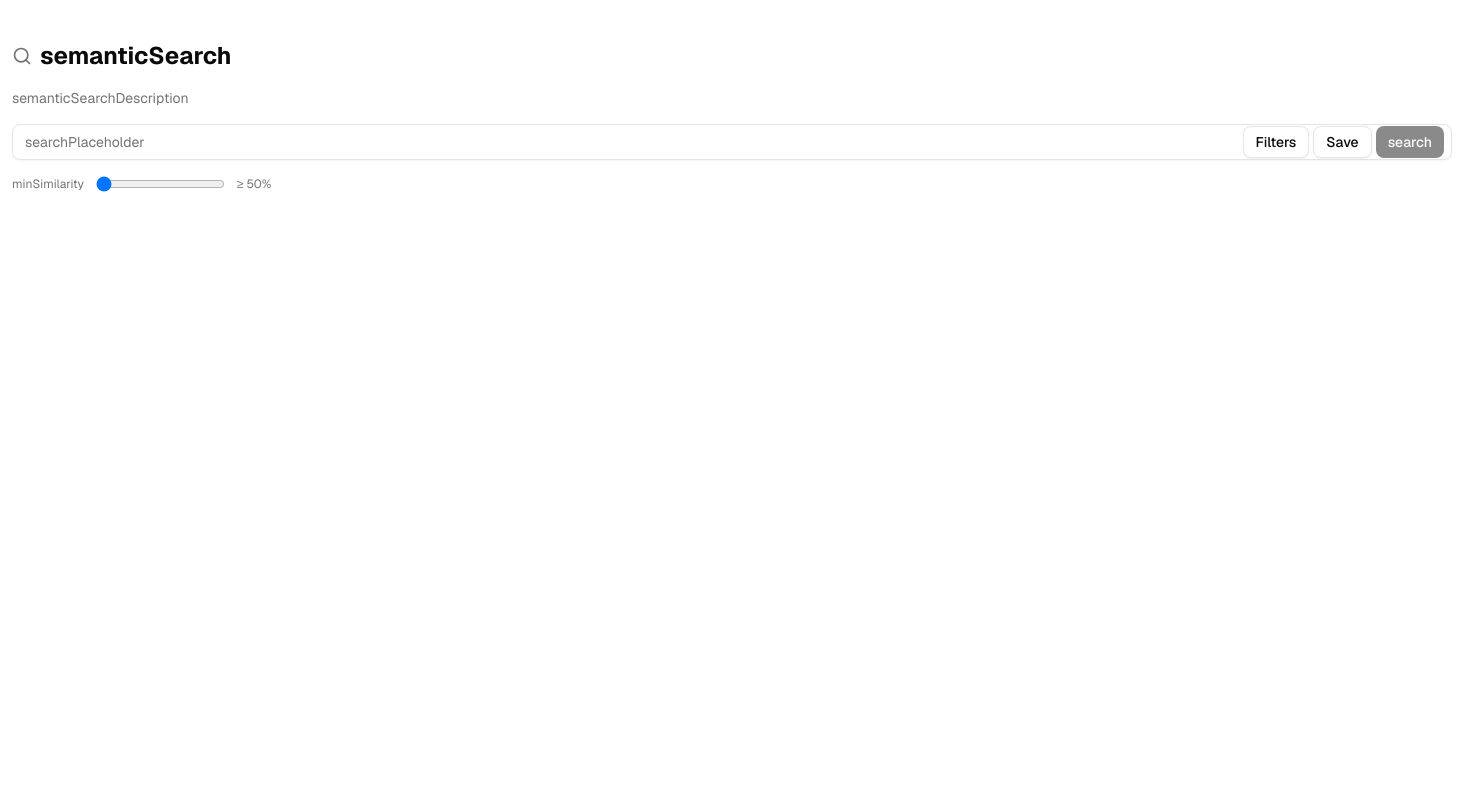
SearchBar › Search Results Display › displays search results
The width and height of the screenshot is (1464, 810).
Type "test query" into the field with placeholder "searchPlaceholder" at coordinates (732, 142), box [12,124,1452,160]
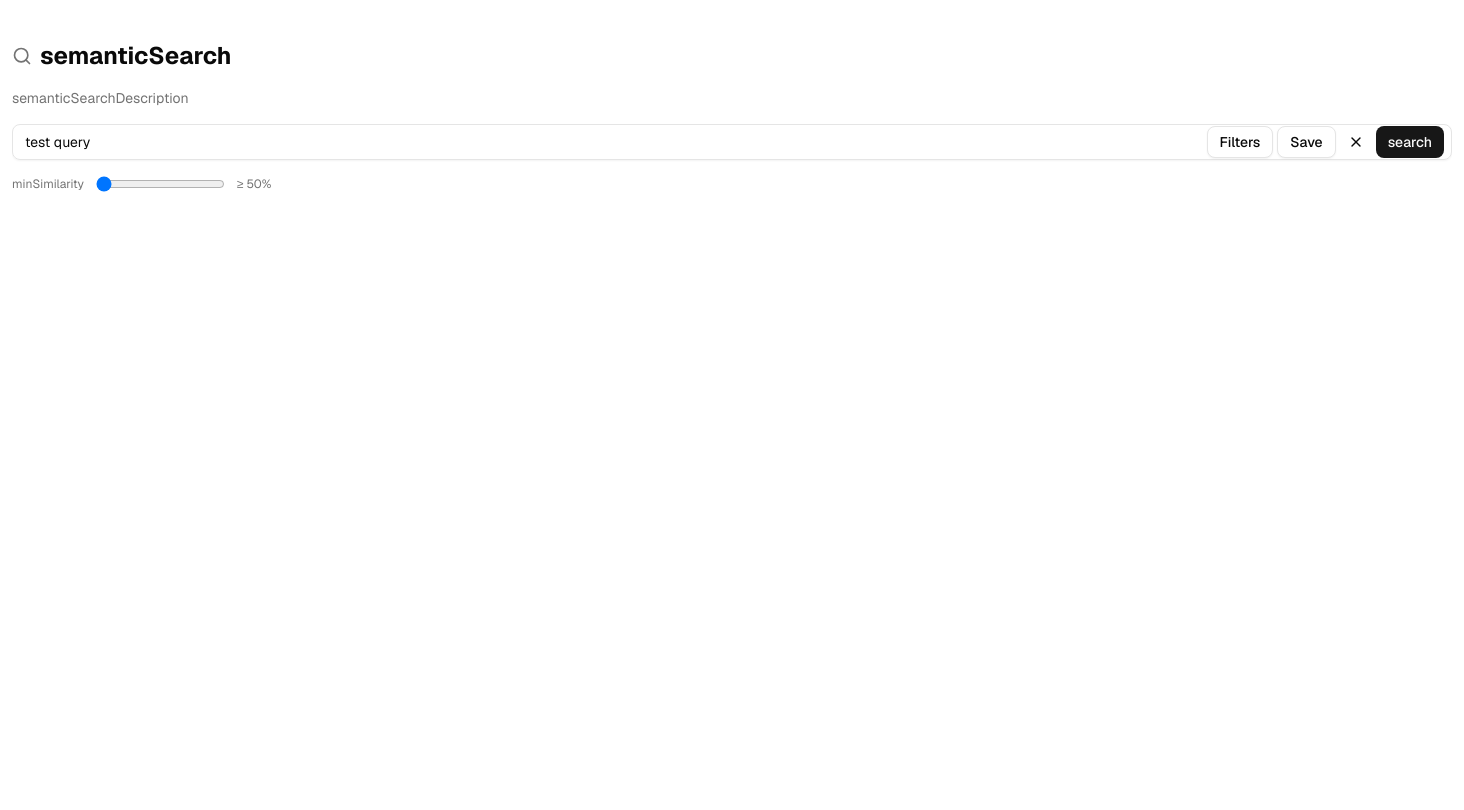
Submit the form with placeholder "searchPlaceholder", box [12,124,1452,160]
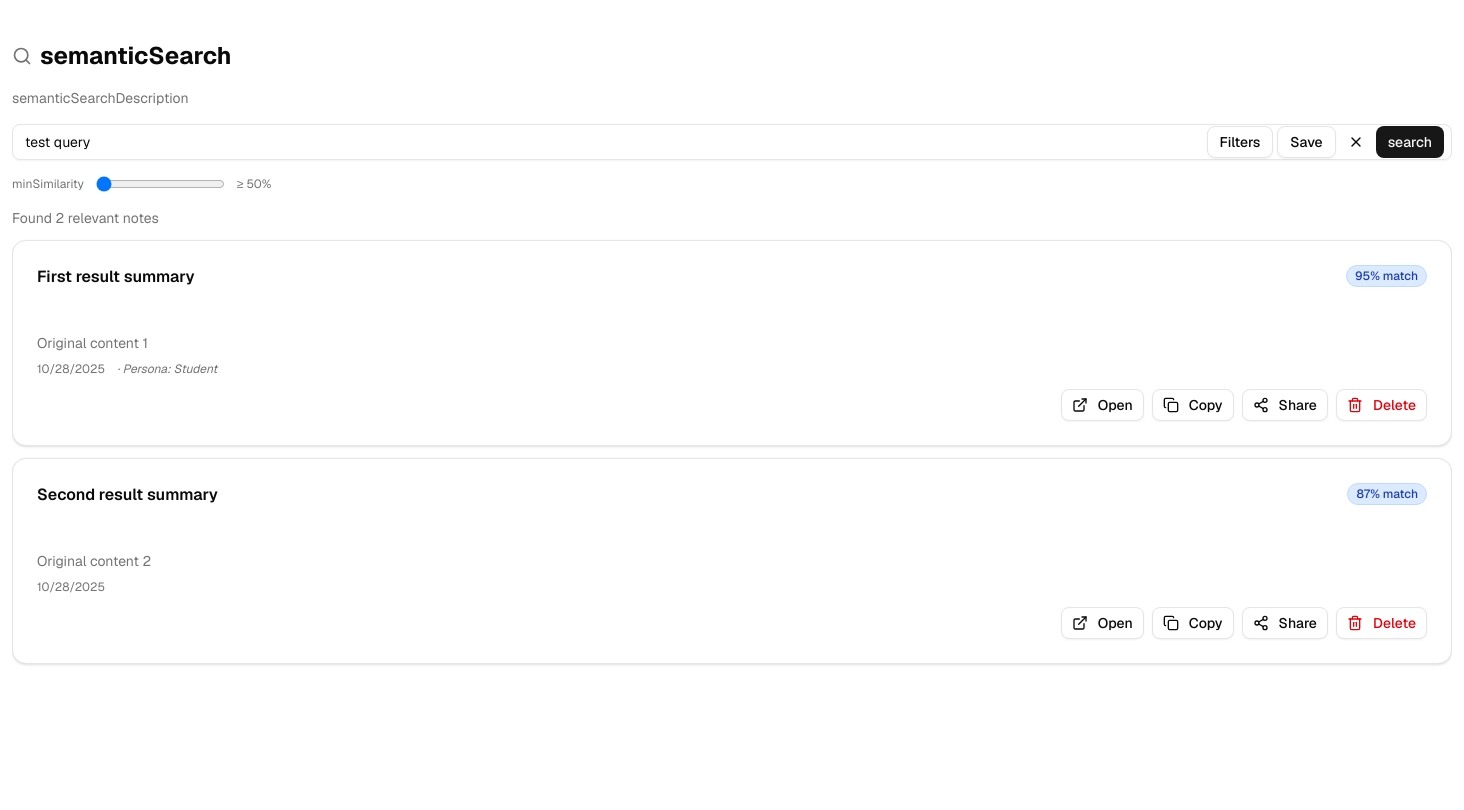
Result: the text "First result summary" is shown at [37,265,195,289]
Result: the text "Second result summary" is shown at [37,483,218,507]
